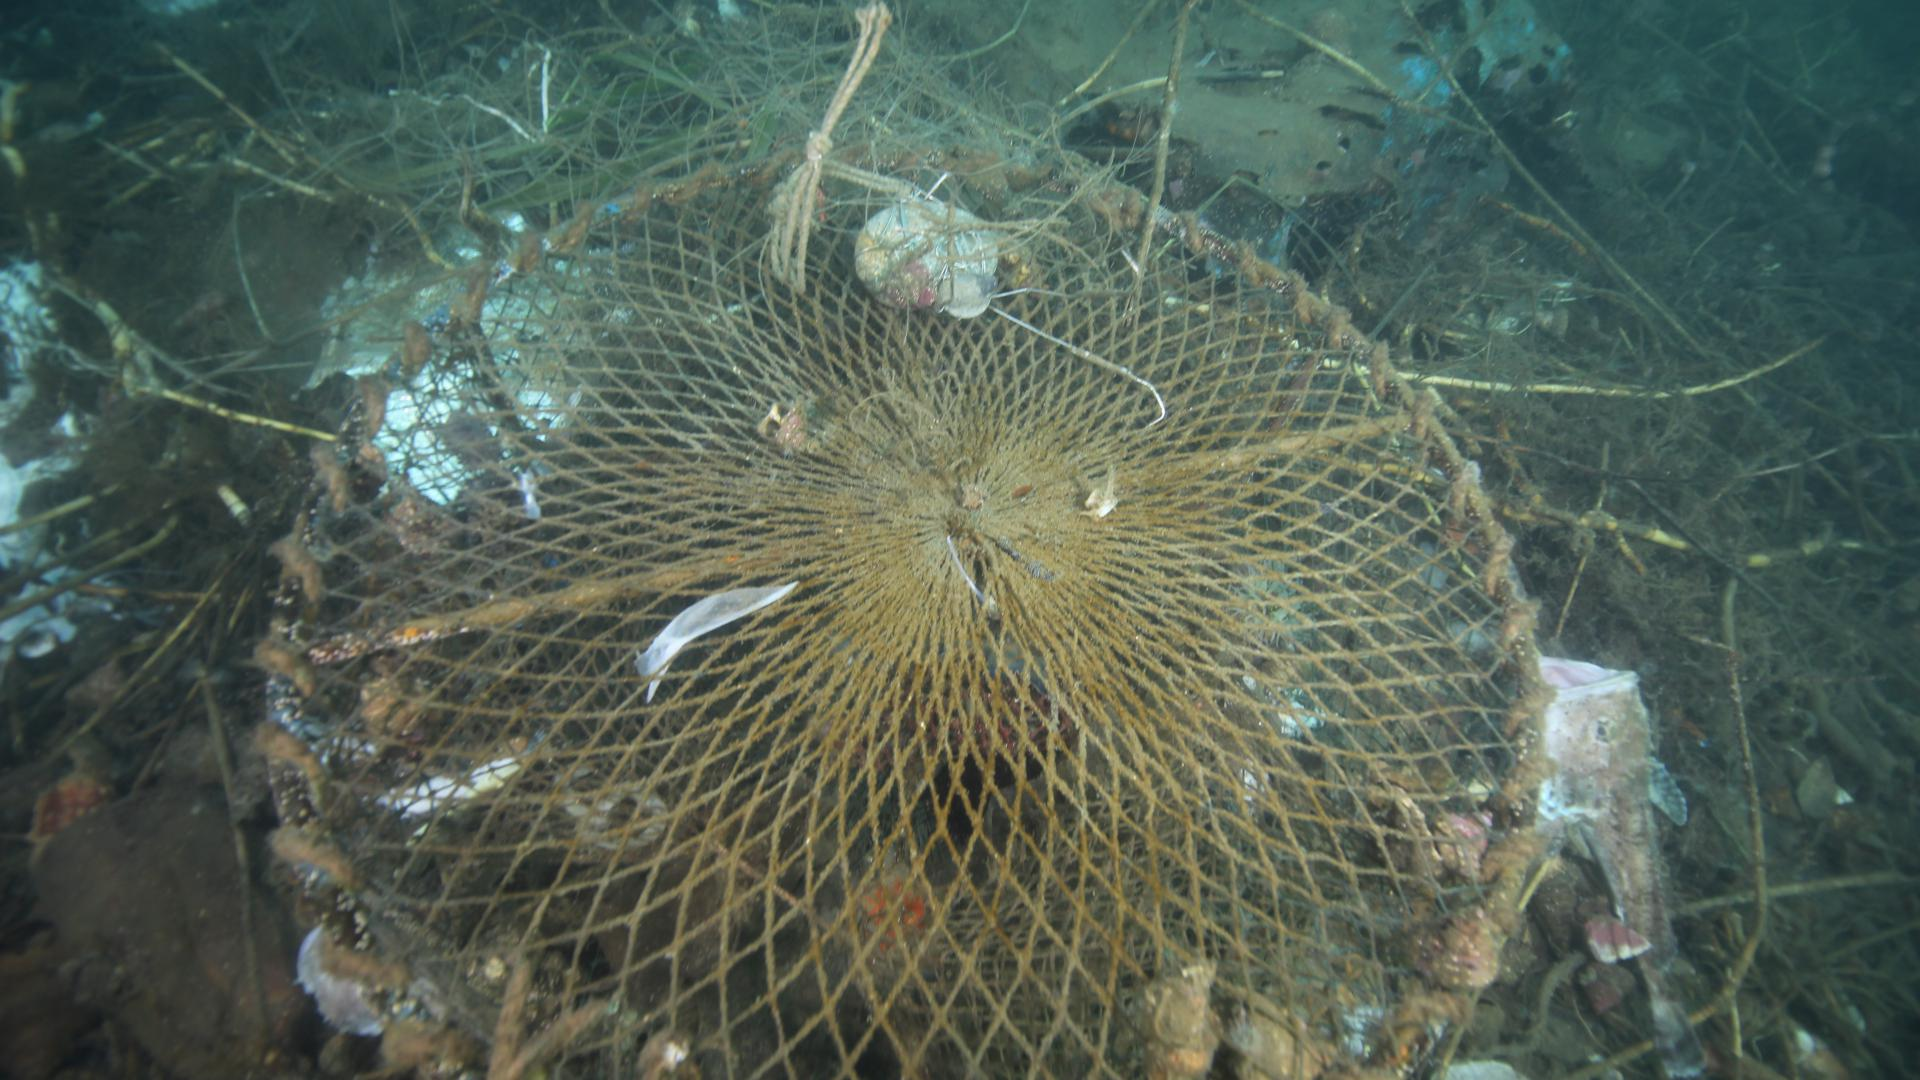bundle of ropes: (762, 15, 889, 294)
circular fish trap: (253, 137, 1555, 1080)
